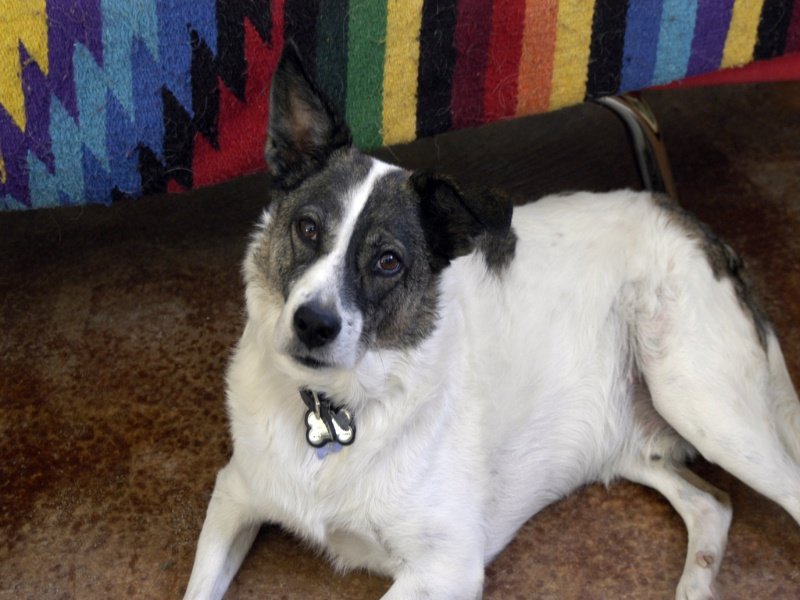dog: (197, 37, 787, 589)
